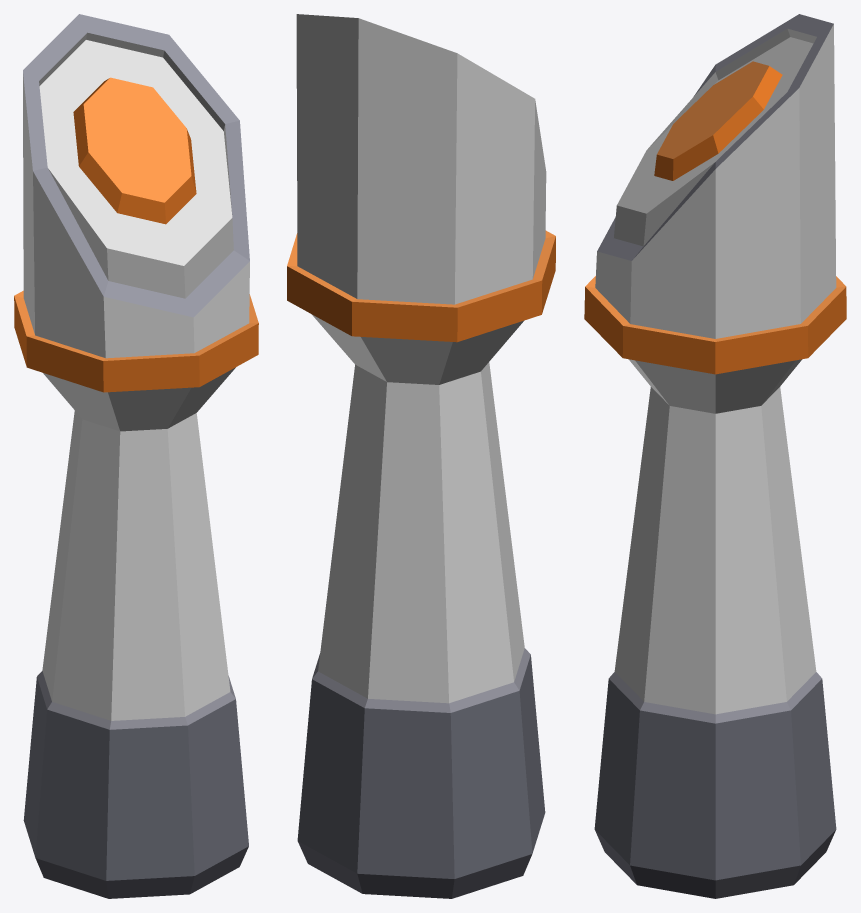
The model's file is ButtonPanel_01.glb.
3 renders of one model, left to right at view 1: azimuth 30°, elevation 25°; view 2: azimuth 150°, elevation 25°; view 3: azimuth 270°, elevation 25°, orthographic. The views are drawn at different scales.
Parts seen in each view (by area): view 1: ButtonPanel_01; view 2: ButtonPanel_01; view 3: ButtonPanel_01.
Boxes of the visible parts, left/top/right/bottom form: ButtonPanel_01: left=14, top=14, right=258, bottom=898; ButtonPanel_01: left=287, top=14, right=555, bottom=898; ButtonPanel_01: left=584, top=14, right=846, bottom=898.
Size of what is drawn, in the model's own units: 0.3288 by 1.14 by 0.328.
1 material, 1 textured.
